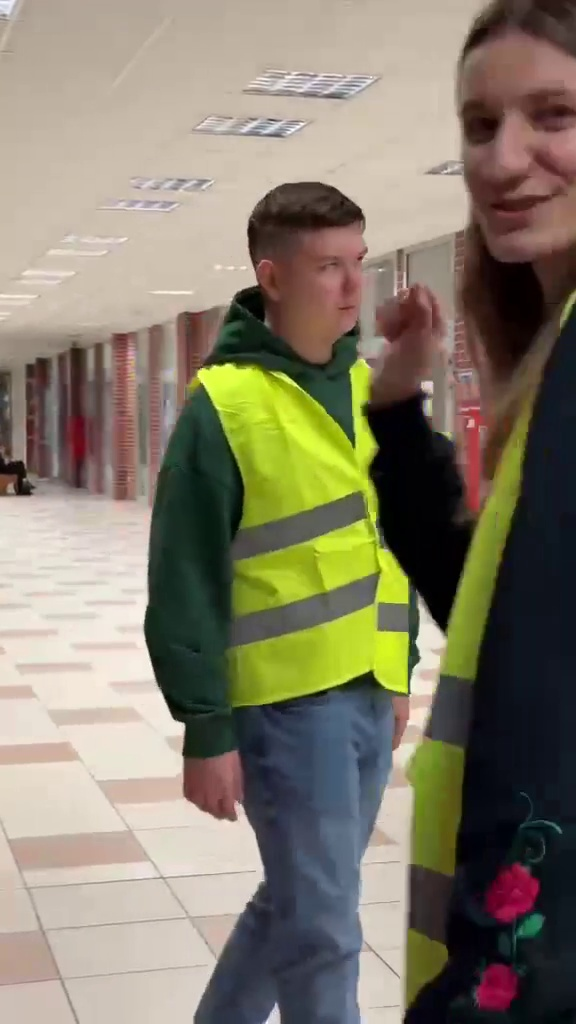vest: (119, 150, 424, 992), (419, 11, 576, 992)
